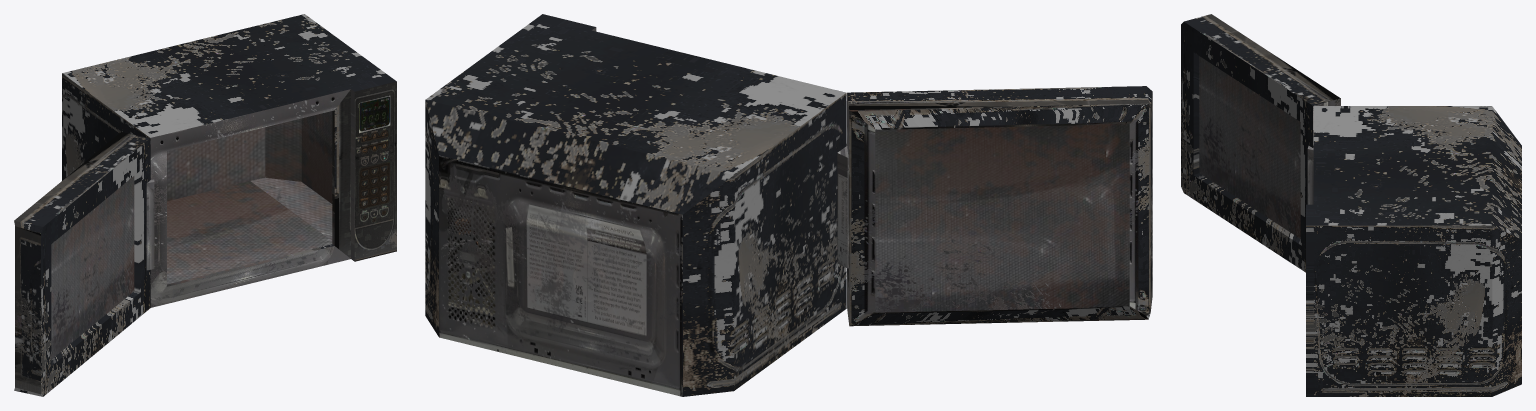
The model's file is SM_Microwave_00.fbx.
3 renders of one model, left to right at view 1: azimuth 30°, elevation 25°; view 2: azimuth 150°, elevation 25°; view 3: azimuth 270°, elevation 25°, orthographic. The views are drawn at different scales.
Visible parts, largest first — view 1: SM_Microwave_00; view 2: SM_Microwave_00; view 3: SM_Microwave_00.
Boxes of the visible parts, x1,y1,x2,y2 form: SM_Microwave_00: (14, 14, 396, 396); SM_Microwave_00: (425, 14, 1152, 396); SM_Microwave_00: (1181, 14, 1521, 396).
Size of the model in its own units: 103 by 39 by 70.25.
